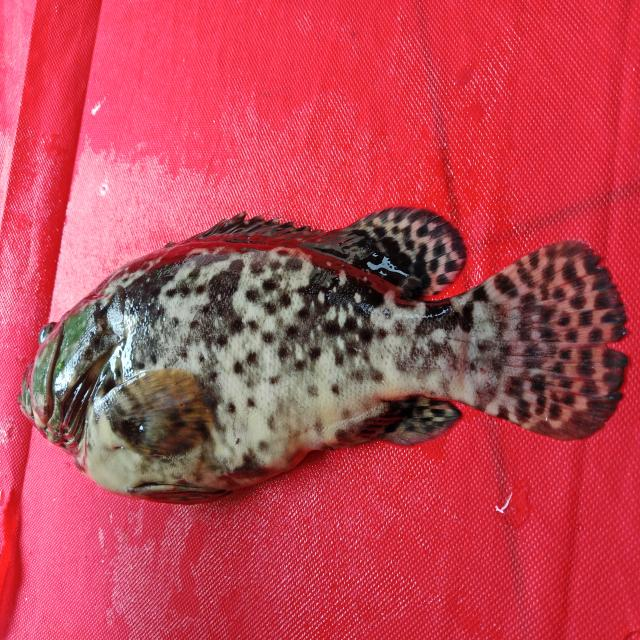ikan: (13, 188, 629, 512)
